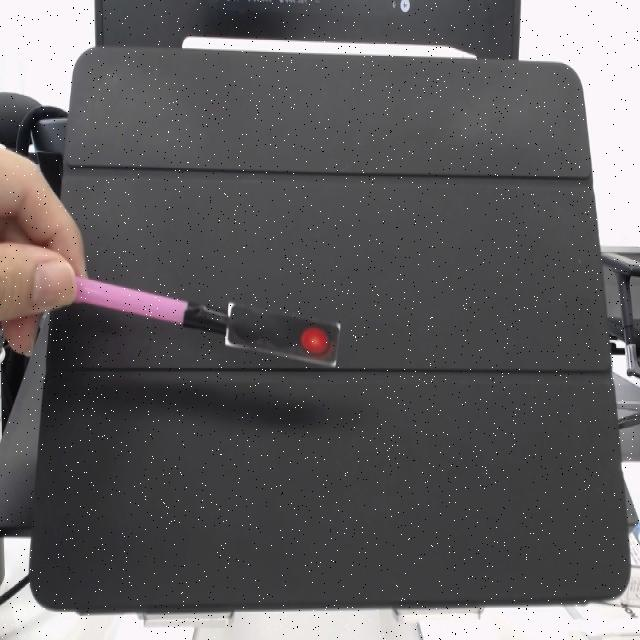traffic light: (225, 303, 341, 371)
